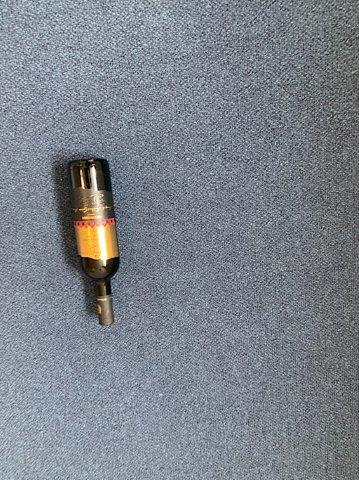botolkaca: (66, 158, 120, 327)
